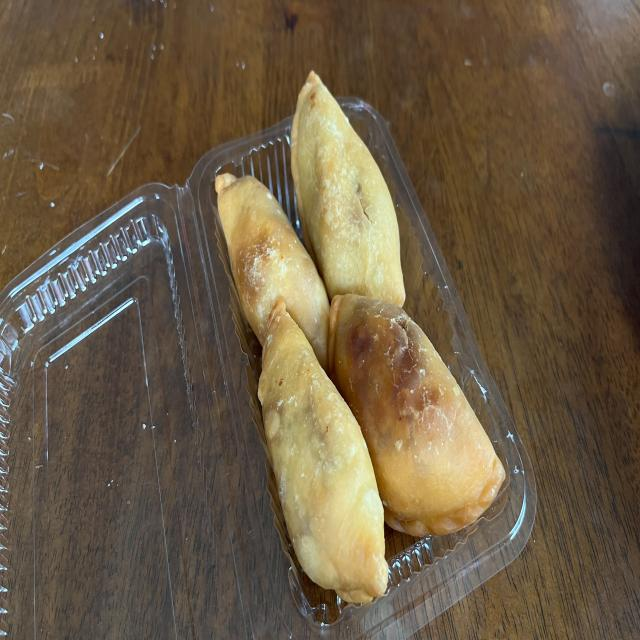karipap: (329, 293, 504, 533), (259, 300, 388, 602), (290, 71, 405, 307), (215, 173, 330, 369)
